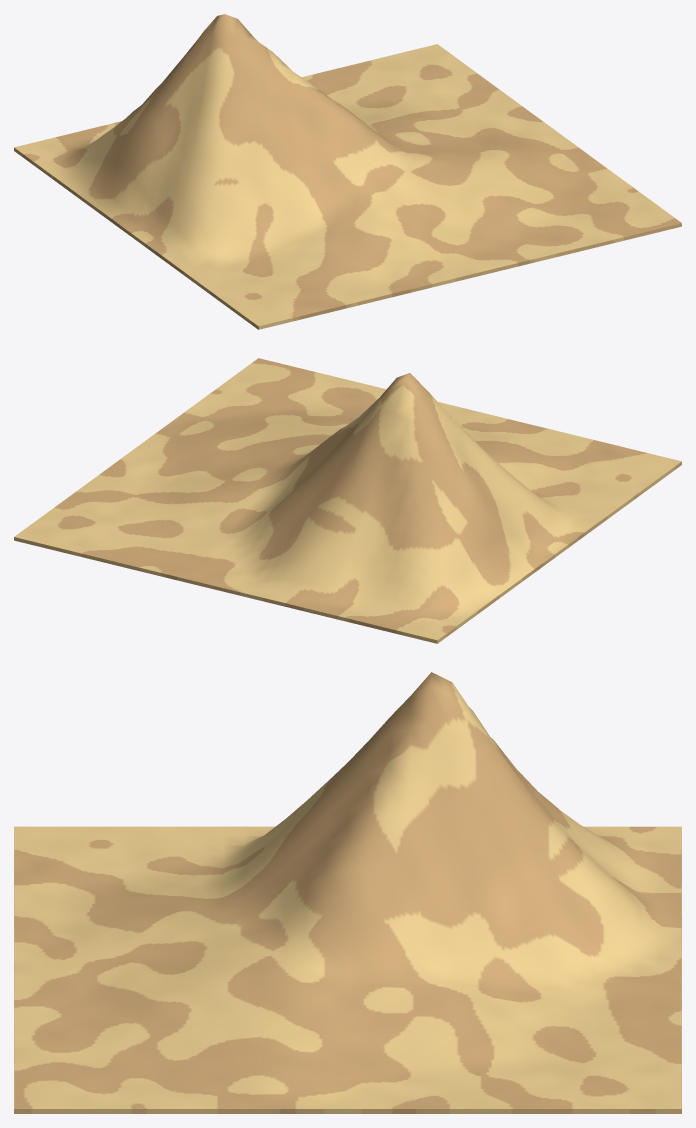
Rendered from Desert_Mountains_08.obj.
3 views of the same model, one above another, from view 1: azimuth 30°, elevation 25°; view 2: azimuth 150°, elevation 25°; view 3: azimuth 270°, elevation 25° (orthographic). The views are drawn at different scales.
Size of the model in its own units: 10 by 3.95 by 10.
1 material, 1 textured.
